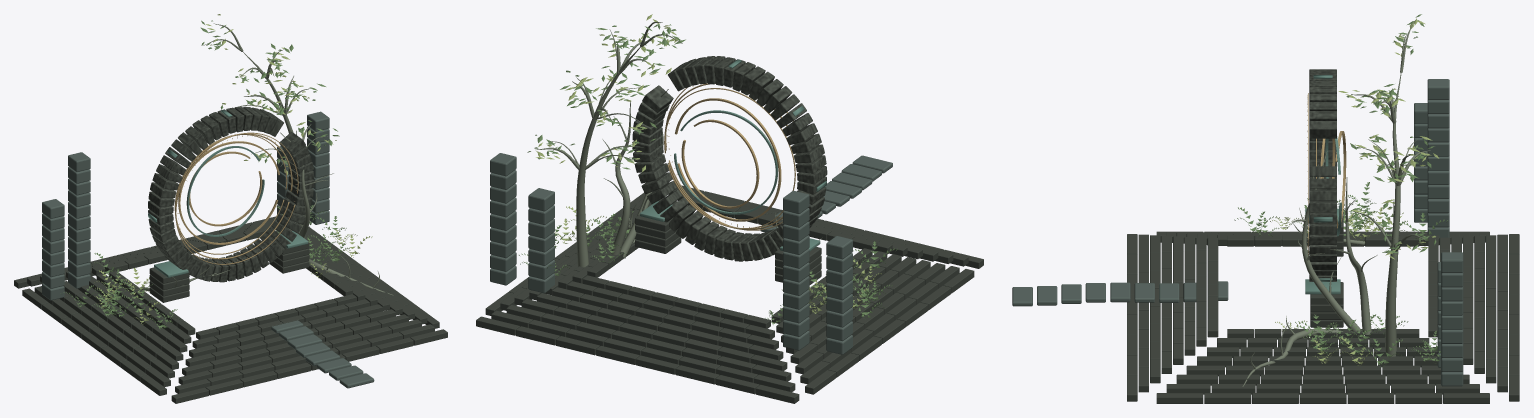
Rendered from quiet-engine.glb.
3 renders of one model, left to right at view 1: azimuth 30°, elevation 25°; view 2: azimuth 150°, elevation 25°; view 3: azimuth 270°, elevation 25°, orthographic. The views are drawn at different scales.
Visible parts, largest first — view 1: Basalt · mineral grain.001, Cut basalt · damp edges.001, Fern · shaded green.001, Root · silver bark.001, Brass · worn inlay.001, Fern · young leaf.001, Optical sight ring 0, Oxidised bronze.001, Optical sight ring 1, Optical sight ring 2; view 2: Basalt · mineral grain.001, Cut basalt · damp edges.001, Root · silver bark.001, Fern · shaded green.001, Fern · young leaf.001, Brass · worn inlay.001, Optical sight ring 0, Optical sight ring 1, Optical sight ring 2, Oxidised bronze.001; view 3: Basalt · mineral grain.001, Cut basalt · damp edges.001, Root · silver bark.001, Fern · shaded green.001, Fern · young leaf.001, Oxidised bronze.001.
Boxes of the visible parts, x1,y1,x2,y2 form: Basalt · mineral grain.001: (14,106,447,403); Cut basalt · damp edges.001: (42,111,374,388); Fern · shaded green.001: (61,20,349,329); Root · silver bark.001: (141,23,393,295); Brass · worn inlay.001: (174,132,298,264); Fern · young leaf.001: (94,14,372,324); Optical sight ring 0: (178,141,279,244); Oxidised bronze.001: (148,109,308,277); Optical sight ring 1: (186,146,264,236); Optical sight ring 2: (189,151,262,226); Basalt · mineral grain.001: (476,56,983,403); Cut basalt · damp edges.001: (490,153,892,354); Root · silver bark.001: (535,21,822,267); Fern · shaded green.001: (519,24,897,324); Fern · young leaf.001: (536,14,881,313); Brass · worn inlay.001: (664,83,795,230); Optical sight ring 0: (675,98,781,221); Optical sight ring 1: (674,110,777,214); Optical sight ring 2: (681,119,759,208); Oxidised bronze.001: (640,59,826,251); Basalt · mineral grain.001: (1127,69,1519,403); Cut basalt · damp edges.001: (1012,79,1463,386); Root · silver bark.001: (1242,22,1430,386); Fern · shaded green.001: (1234,14,1447,367); Fern · young leaf.001: (1270,18,1439,365); Oxidised bronze.001: (1305,75,1340,294).
Size of the model in its own units: 12.34 by 10.33 by 14.95.
7 materials, 1 textured.
